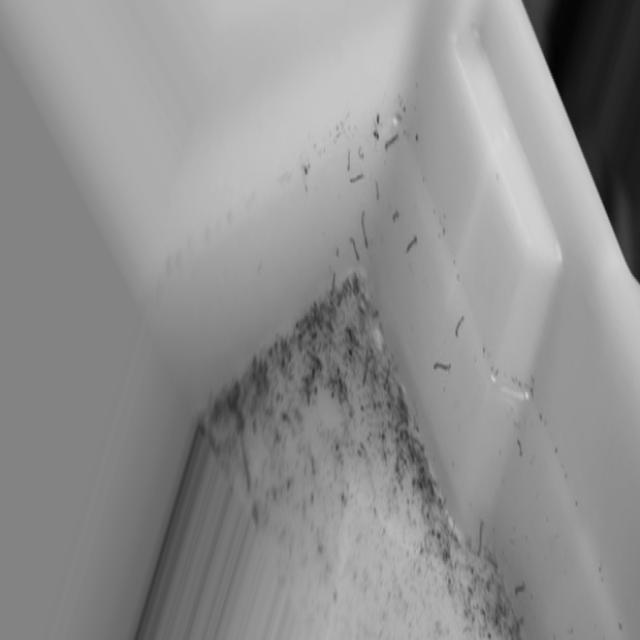larvas: (240, 434, 251, 488), (476, 520, 485, 555), (361, 210, 368, 252), (385, 132, 399, 151), (351, 236, 361, 261), (384, 359, 391, 388), (413, 436, 424, 453), (407, 234, 417, 252), (363, 352, 369, 382), (456, 316, 464, 338), (434, 363, 452, 371), (514, 582, 524, 596), (331, 272, 337, 295), (351, 173, 364, 183), (347, 148, 351, 171), (518, 440, 524, 454), (376, 184, 380, 204), (358, 148, 364, 159)
